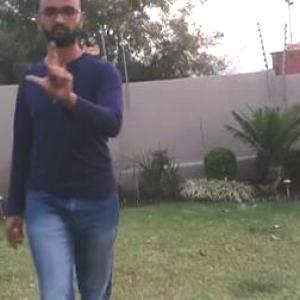land_hand: (24, 30, 78, 102)
